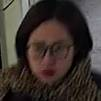liangsu: (14, 11, 85, 86)
